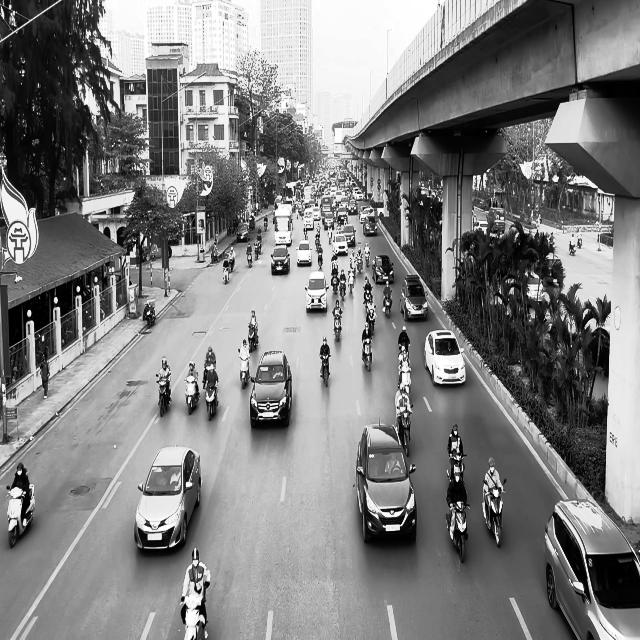car: (544, 498, 640, 639), (355, 419, 417, 543), (134, 445, 202, 551), (249, 349, 292, 428), (424, 329, 466, 386), (400, 274, 428, 321), (304, 271, 329, 313), (371, 254, 394, 284), (270, 245, 290, 275), (296, 239, 312, 266)
motorbike: (6, 483, 34, 548), (482, 478, 506, 547), (445, 501, 470, 563), (180, 596, 208, 640), (396, 405, 413, 456), (184, 375, 200, 415), (156, 375, 171, 417), (204, 377, 218, 421), (447, 451, 466, 482), (238, 349, 250, 389), (362, 337, 372, 371), (144, 299, 156, 327), (320, 354, 330, 387), (332, 310, 342, 341), (382, 293, 392, 317)
